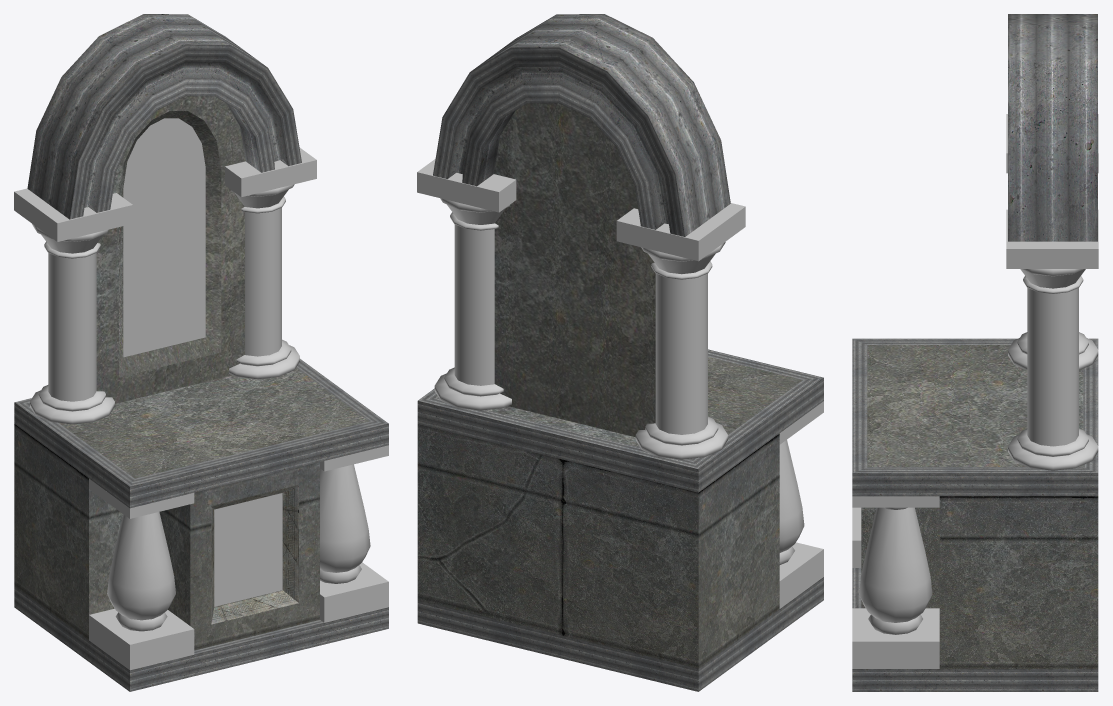
The model's file is Shrine_1.FBX.
3 renders of one model, left to right at view 1: azimuth 30°, elevation 25°; view 2: azimuth 150°, elevation 25°; view 3: azimuth 270°, elevation 25°, orthographic. The views are drawn at different scales.
Visible parts, largest first — view 1: Box35; view 2: Box35; view 3: Box35.
Part boxes in pixels (left/top/right/bottom): Box35: left=14, top=14, right=388, bottom=691; Box35: left=417, top=14, right=823, bottom=691; Box35: left=852, top=14, right=1098, bottom=691.
Bounding box in the file's own units: 251 × 519 × 193.
